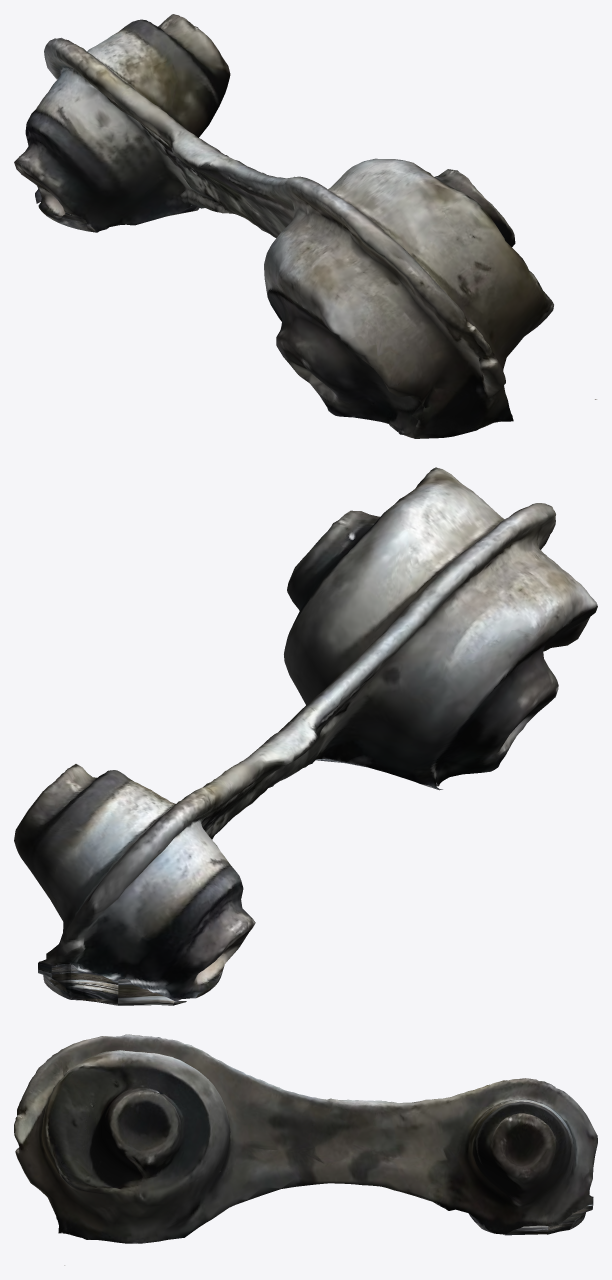
Rendered from motor.glb.
3 views of the same model, one above another, from view 1: azimuth 30°, elevation 25°; view 2: azimuth 150°, elevation 25°; view 3: azimuth 270°, elevation 25° (orthographic). The views are drawn at different scales.
Visible parts, largest first — view 1: Mesh_0; view 2: Mesh_0; view 3: Mesh_0.
Part boxes in pixels (x1,y1,x2,y2): Mesh_0: (14,14,596,438); Mesh_0: (14,467,597,1005); Mesh_0: (14,1034,597,1265).
Bounding box in the file's own units: 0.2471 × 0.2078 × 0.6698.
1 material, 1 textured.
